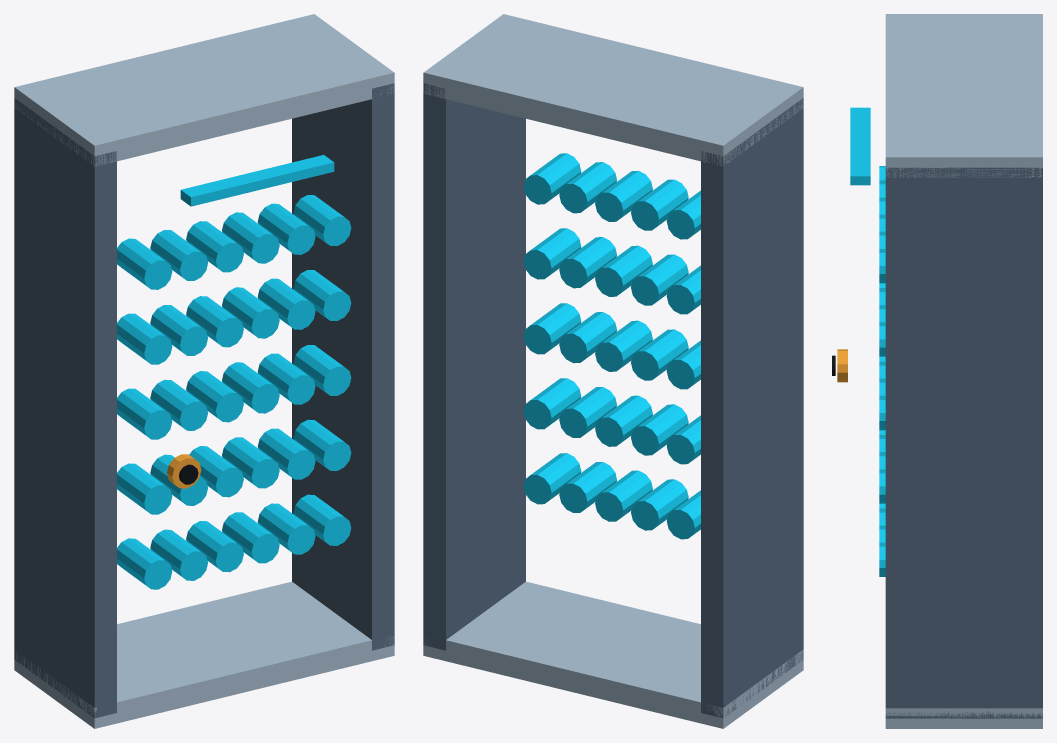
File: 29_L88_O2CellStackA.fbx
3 renders of one model, left to right at view 1: azimuth 30°, elevation 25°; view 2: azimuth 150°, elevation 25°; view 3: azimuth 270°, elevation 25°, orthographic. The views are drawn at different scales.
Parts seen in each view (by area): view 1: L87_O2CellStackA_Part_0000, L87_O2CellStackA_Part_0001, L87_O2CellStackA_Part_0002, L87_O2CellStackA_Part_0003, L87_O2CellStackA_Part_0004, L87_O2CellStackA_Part_0005; view 2: L87_O2CellStackA_Part_0000, L87_O2CellStackA_Part_0001, L87_O2CellStackA_Part_0002, L87_O2CellStackA_Part_0003; view 3: L87_O2CellStackA_Part_0000, L87_O2CellStackA_Part_0001, L87_O2CellStackA_Part_0004, L87_O2CellStackA_Part_0002, L87_O2CellStackA_Part_0003, L87_O2CellStackA_Part_0005.
Part boxes in pixels (box(x1,y1,x2,y2)): L87_O2CellStackA_Part_0000: box(14, 83, 394, 718); L87_O2CellStackA_Part_0001: box(14, 14, 394, 728); L87_O2CellStackA_Part_0002: box(117, 305, 351, 589); L87_O2CellStackA_Part_0003: box(117, 195, 351, 347); L87_O2CellStackA_Part_0004: box(180, 155, 334, 206); L87_O2CellStackA_Part_0005: box(167, 454, 201, 488); L87_O2CellStackA_Part_0000: box(423, 83, 803, 718); L87_O2CellStackA_Part_0001: box(423, 14, 803, 728); L87_O2CellStackA_Part_0002: box(523, 265, 700, 539); L87_O2CellStackA_Part_0003: box(523, 153, 700, 305); L87_O2CellStackA_Part_0000: box(885, 167, 1042, 718); L87_O2CellStackA_Part_0001: box(885, 14, 1042, 728); L87_O2CellStackA_Part_0004: box(850, 107, 870, 185); L87_O2CellStackA_Part_0002: box(879, 356, 885, 576); L87_O2CellStackA_Part_0003: box(879, 166, 885, 356); L87_O2CellStackA_Part_0005: box(837, 349, 847, 382).
Bounding box in the file's own units: 134 × 249 × 83.2.
